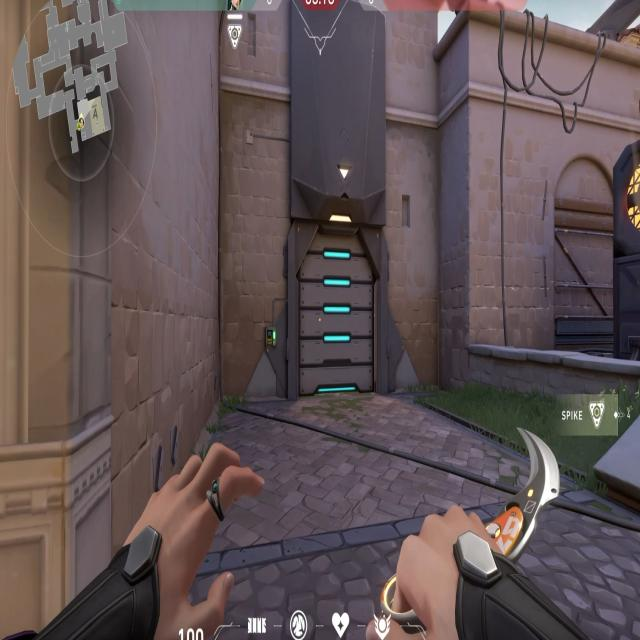A_Door: (286, 202, 392, 438)
